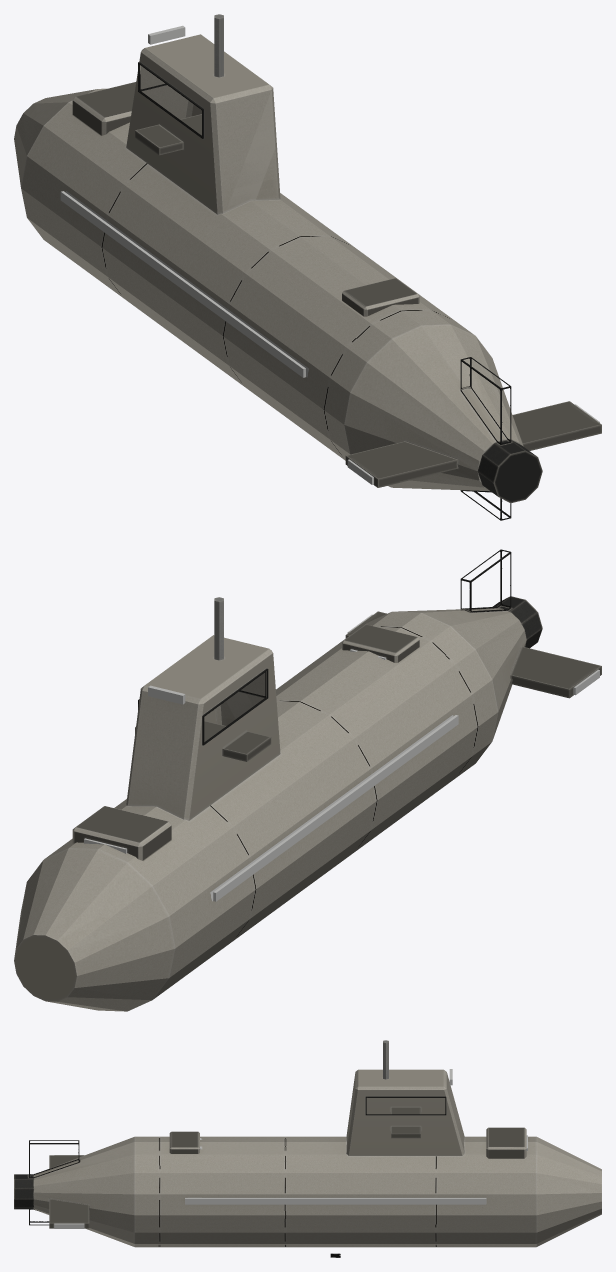
The model's file is ord_silence.fbx.
3 renders of one model, top to bottom at view 1: azimuth 30°, elevation 25°; view 2: azimuth 150°, elevation 25°; view 3: azimuth 270°, elevation 25°, orthographic. The views are drawn at different scales.
Parts seen in each view (by area): view 1: base_bar, base_glow_running_bar, turret1_bar, turret2_bar; view 2: base_bar, base_glow_running_bar, turret1_bar, turret2_bar; view 3: base_bar, base_glow_running_bar, turret1_bar, turret2_bar.
Part boxes in pixels (x1,y1,x2,y2): base_bar: (14, 14, 601, 520); base_glow_running_bar: (60, 25, 599, 484); turret1_bar: (72, 82, 136, 135); turret2_bar: (342, 278, 419, 316); base_bar: (14, 549, 601, 1011); base_glow_running_bar: (148, 614, 599, 901); turret1_bar: (72, 806, 171, 860); turret2_bar: (342, 624, 419, 662); base_bar: (14, 1040, 601, 1247); base_glow_running_bar: (54, 1069, 486, 1228); turret1_bar: (486, 1127, 526, 1158); turret2_bar: (169, 1131, 199, 1153).
Bounding box in the file's own units: 326 × 470 × 1170.
Materials: 2 (2 with a texture image).
